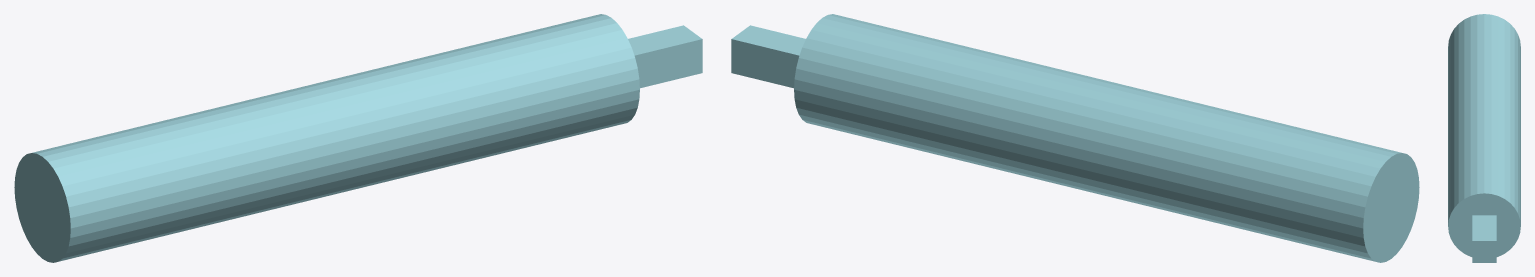
Rendered from thick_marker.obj.
The picture shows the model from 3 angles, left to right: view 1: azimuth 30°, elevation 25°; view 2: azimuth 150°, elevation 25°; view 3: azimuth 270°, elevation 25°; orthographic projection. The views are drawn at different scales.
Bounding box in the file's own units: 0.16 × 0.024 × 0.024.
